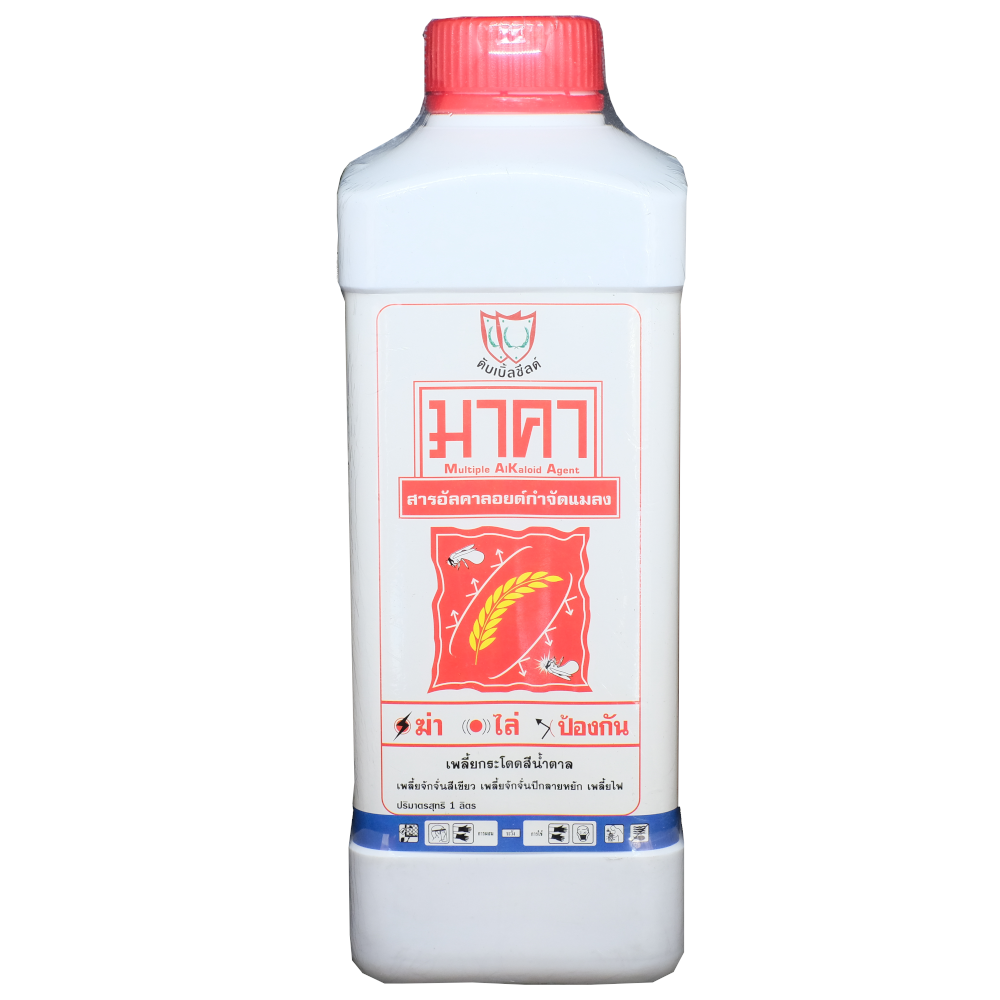Insecticide: (330, 6, 692, 993)
